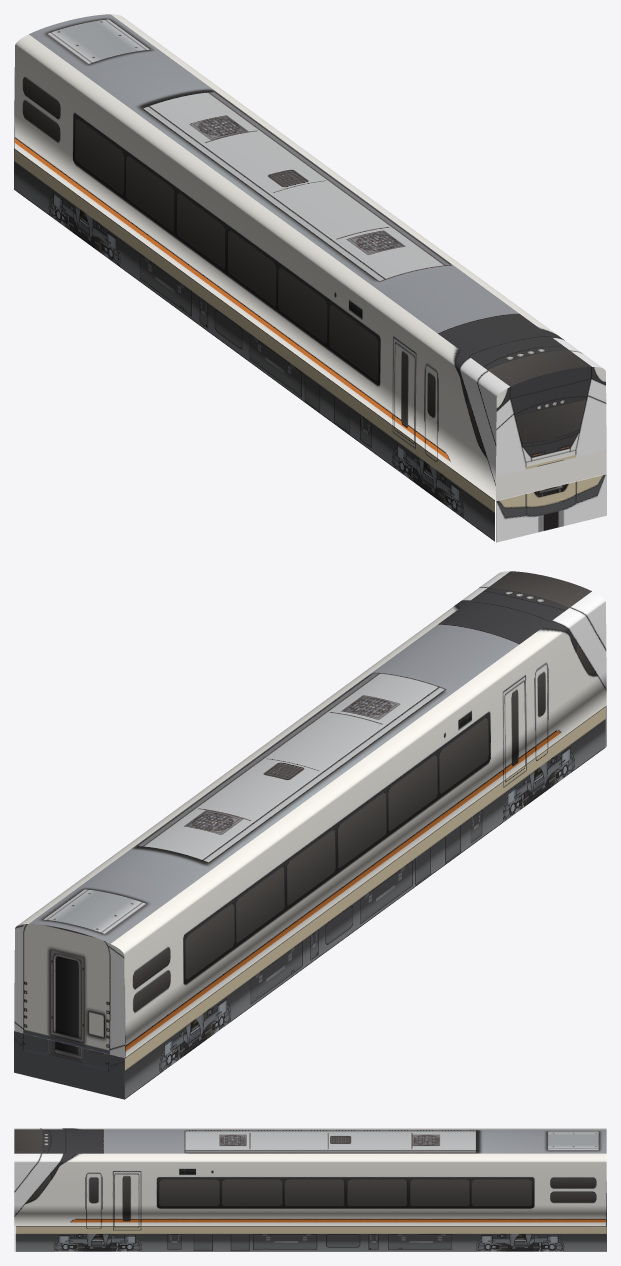
Rendered from car1.glb.
The picture shows the model from 3 angles, top to bottom: view 1: azimuth 30°, elevation 25°; view 2: azimuth 150°, elevation 25°; view 3: azimuth 270°, elevation 25°; orthographic projection. The views are drawn at different scales.
Visible parts, largest first — view 1: kintetsu-21020-car1; view 2: kintetsu-21020-car1; view 3: kintetsu-21020-car1.
Part boxes in pixels (x1,y1,x2,y2): kintetsu-21020-car1: (14,14,606,542); kintetsu-21020-car1: (14,571,606,1099); kintetsu-21020-car1: (14,1128,606,1251).
Bounding box in the file's own units: 2.8 × 3.77 × 21.13.
Materials: 8 (7 with a texture image).
